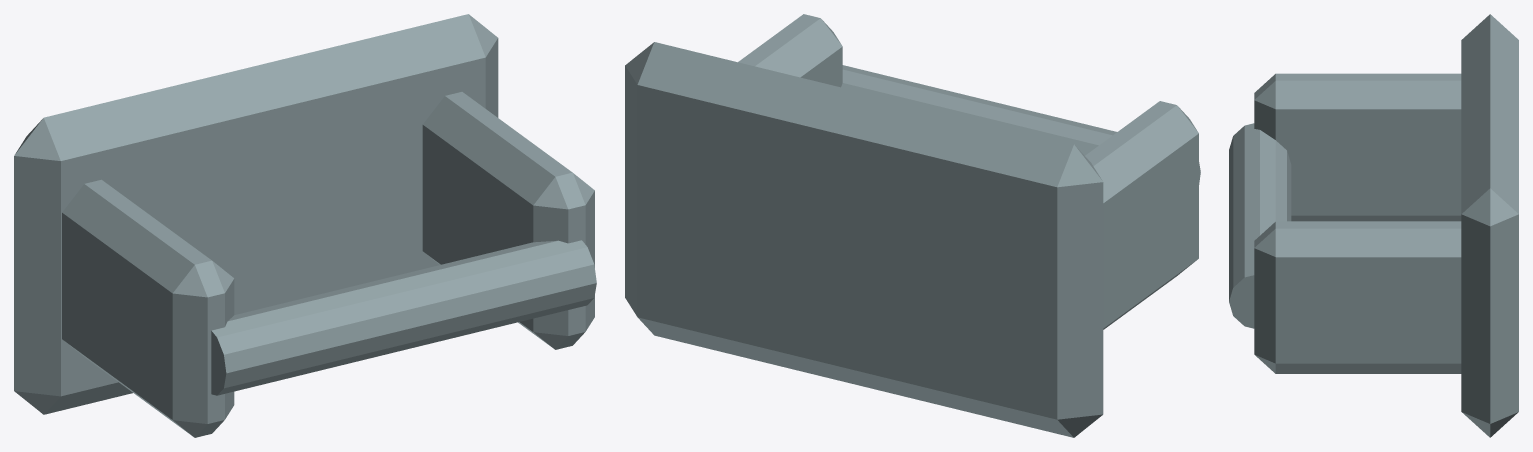
File: Supplies-PaperRollHolder.fbx
3 views of the same model, side by side, from view 1: azimuth 30°, elevation 25°; view 2: azimuth 150°, elevation 25°; view 3: azimuth 270°, elevation 25° (orthographic). The views are drawn at different scales.
Parts seen in each view (by area): view 1: Wall Mount, Roll Arm, Spindle, Roll Arm.001; view 2: Wall Mount, Roll Arm, Spindle, Roll Arm.001; view 3: Roll Arm.001, Roll Arm, Wall Mount, Spindle.
Boxes of the visible parts, box(x1,y1,x2,y2) form: Wall Mount: box(14, 14, 498, 414); Roll Arm: box(62, 179, 234, 437); Spindle: box(211, 240, 596, 395); Roll Arm.001: box(422, 92, 594, 349); Wall Mount: box(625, 42, 1103, 437); Roll Arm: box(1085, 101, 1198, 329); Spindle: box(841, 65, 1200, 184); Roll Arm.001: box(738, 14, 842, 87); Roll Arm.001: box(1254, 221, 1461, 373); Roll Arm: box(1254, 73, 1461, 221); Wall Mount: box(1461, 14, 1518, 437); Spindle: box(1229, 123, 1291, 328).
Size of the model in its own units: 0.196 by 0.115 by 0.121.
